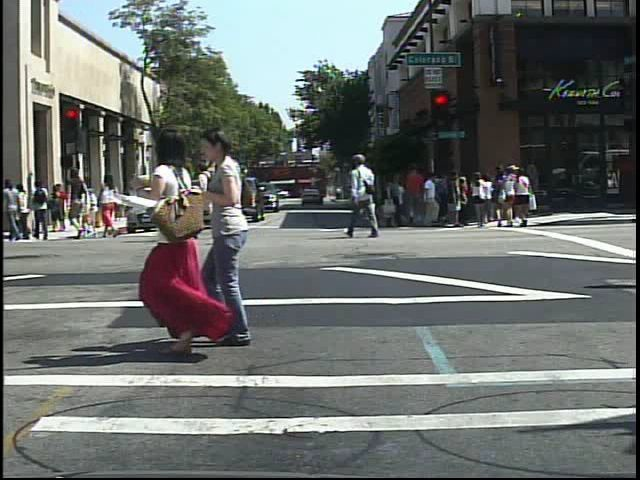person: (119, 127, 241, 358), (196, 126, 291, 352), (160, 154, 196, 244), (348, 149, 382, 242), (499, 163, 539, 232), (195, 155, 223, 245), (64, 166, 92, 243), (98, 171, 126, 240), (2, 177, 24, 245), (30, 178, 53, 243), (470, 170, 493, 233)
